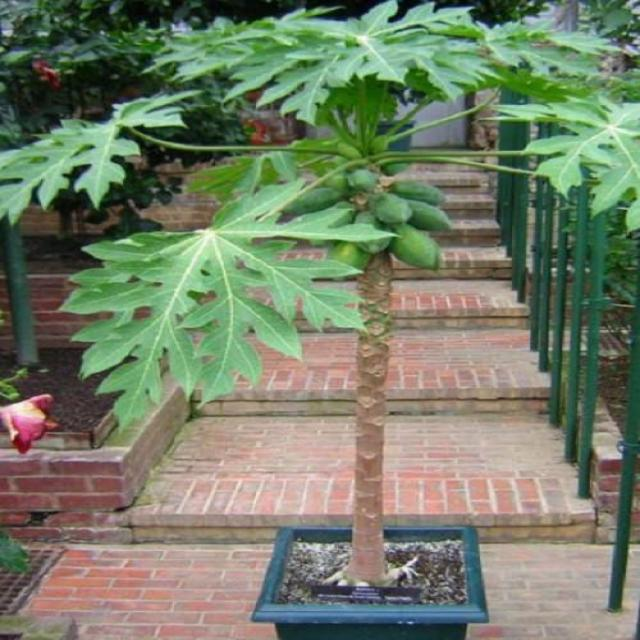Papaya-Tree: (59, 19, 610, 588)
